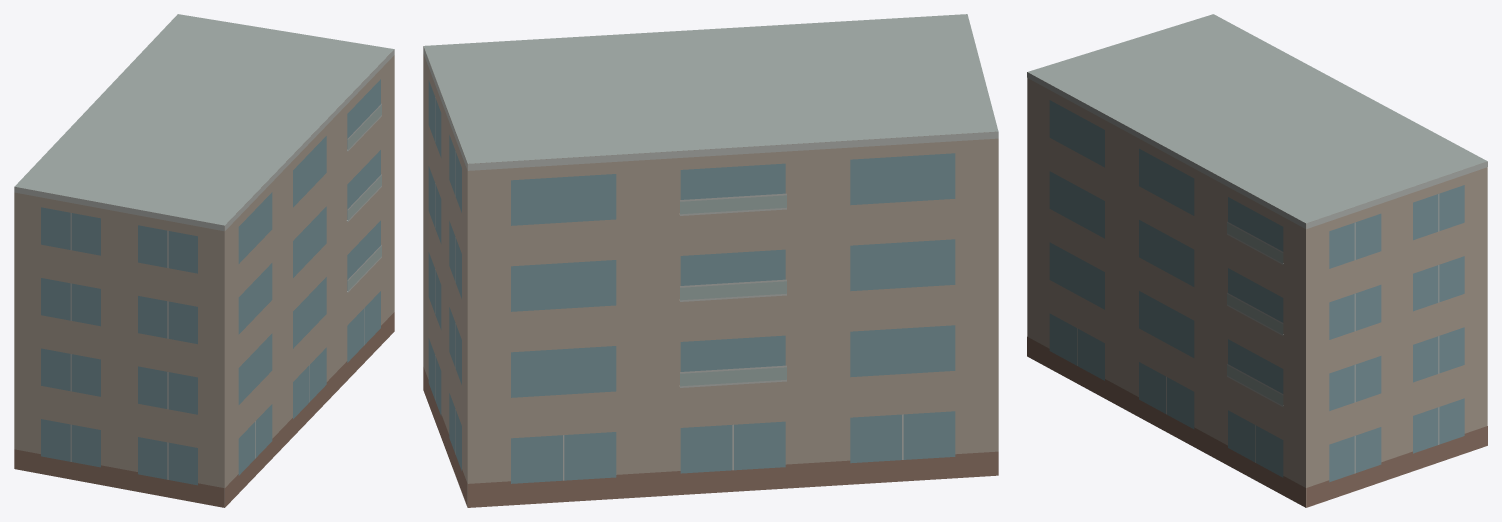
Rendered from survey-upis-32725039.glb.
3 views of the same model, side by side, from view 1: azimuth 30°, elevation 25°; view 2: azimuth 150°, elevation 25°; view 3: azimuth 270°, elevation 25° (orthographic). The views are drawn at different scales.
Visible parts, largest first — view 1: survey-upis-32725039.tmp; view 2: survey-upis-32725039.tmp; view 3: survey-upis-32725039.tmp.
Boxes of the visible parts, x1,y1,x2,y2 form: survey-upis-32725039.tmp: [14, 14, 394, 507]; survey-upis-32725039.tmp: [423, 14, 998, 507]; survey-upis-32725039.tmp: [1027, 14, 1487, 507].
Size of the model in its own units: 18.8 by 11.9 by 17.47.
